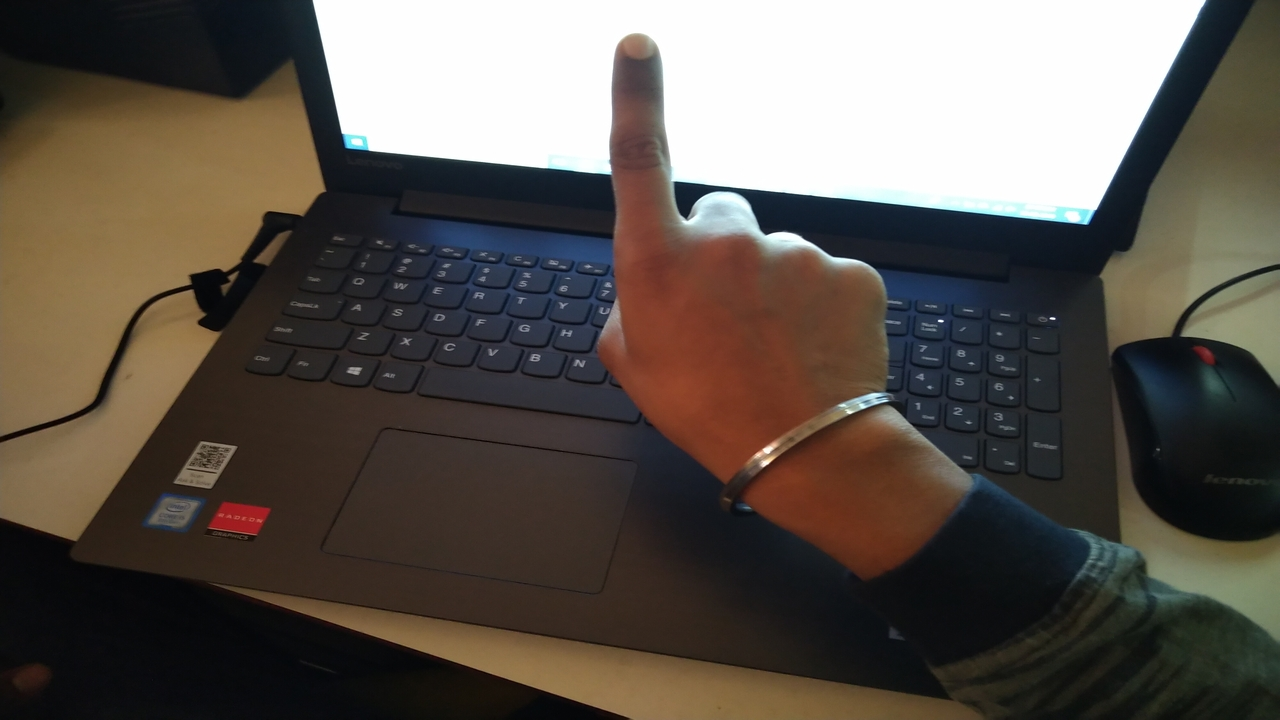fingertip: (610, 28, 662, 82)
